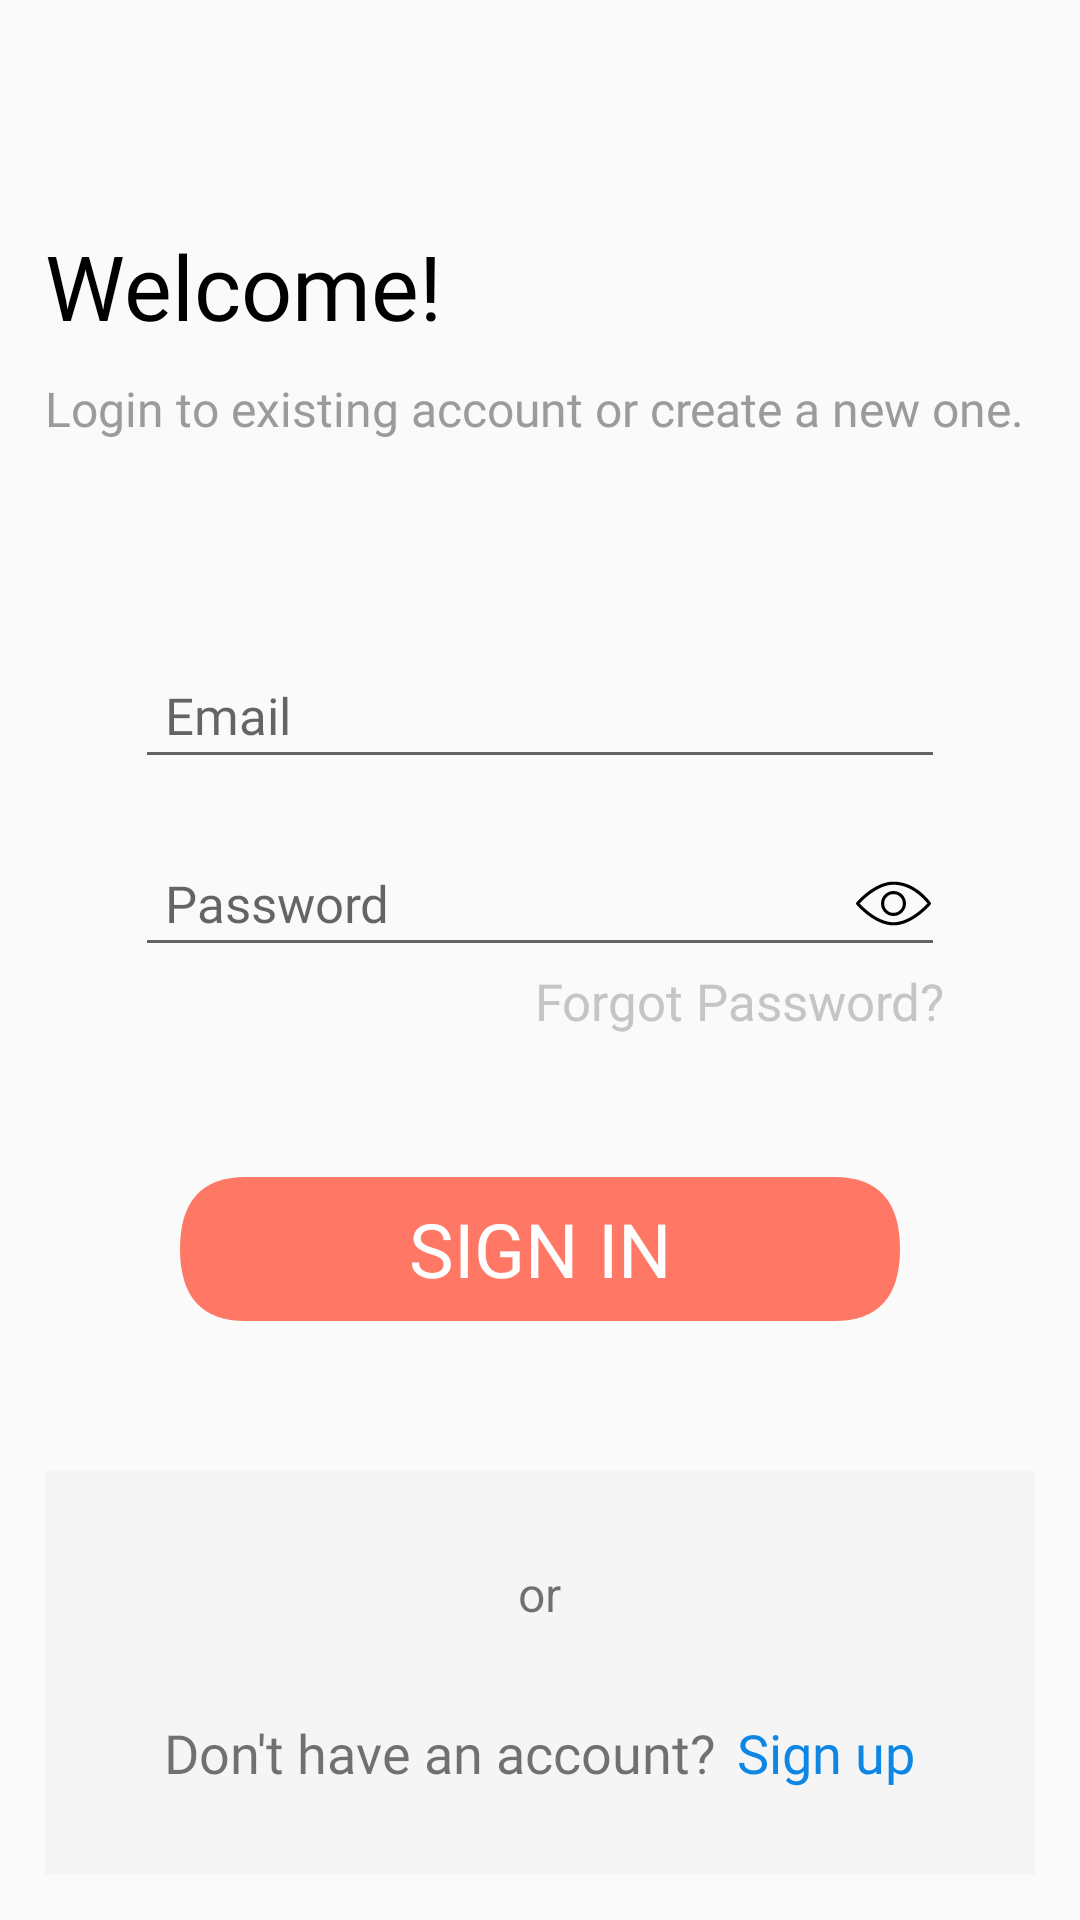

Named icons in this screenshot (1080x1920) and their centers, (x,y):
show pass: (893,903)
